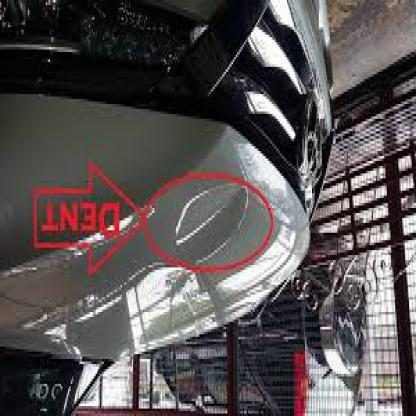dent: (166, 187, 256, 254)
